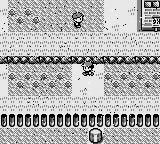main: (81, 61, 94, 76)
no-caminable: (1, 114, 160, 127), (141, 0, 159, 31), (88, 128, 104, 143)
npc: (73, 12, 86, 28)
salto: (1, 56, 160, 64)
